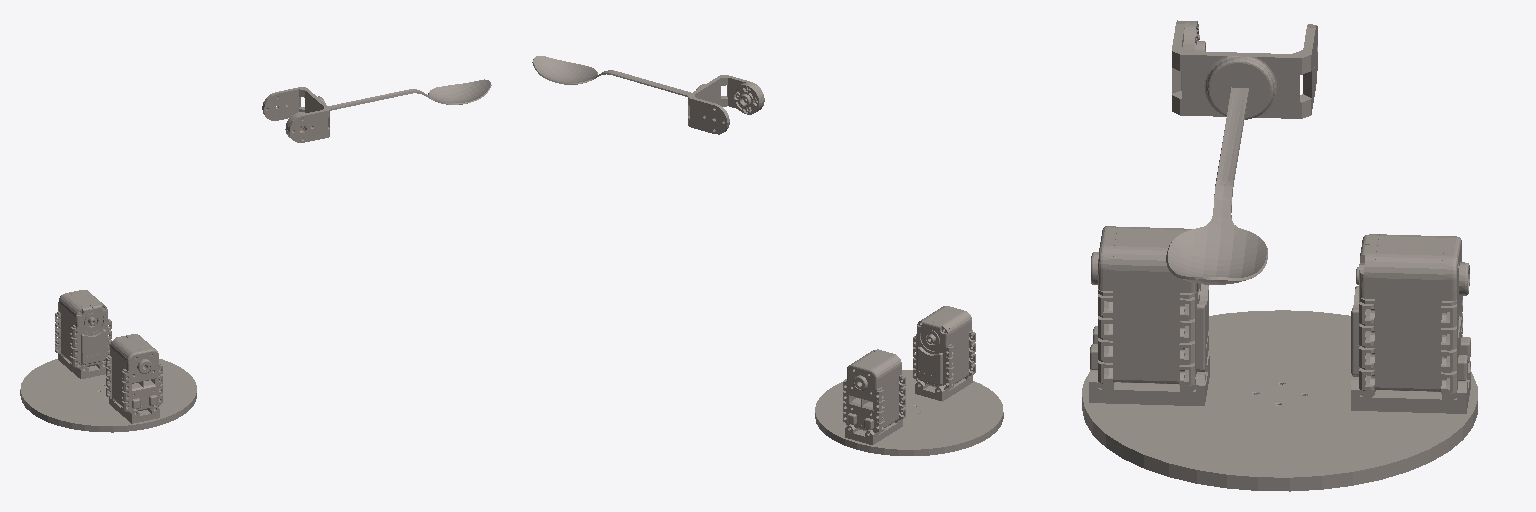
robot.urdf — MATLAB_feeding_robot_arm20:
<?xml version="1.0" encoding="utf-8"?>
<!-- This URDF was automatically created by SolidWorks to URDF Exporter! Originally created by [author] ([email redacted]) 
     Commit Version: 1.5.1-0-g916b5db  Build Version: 1.5.7152.31018
     For more information, please see http://wiki.ros.org/sw_urdf_exporter -->
<robot
  name="MATLAB_feeding_robot_arm20">
  <link
    name="base_link">
    <inertial>
      <origin
        xyz="0.194934821629088 -0.0135833956377986 0.00709237953021339"
        rpy="0 0 0" />
      <mass
        value="1.2996491336163" />
      <inertia
        ixx="0.00513241757298595"
        ixy="0.000909915765740639"
        ixz="-9.70075439247577E-06"
        iyy="0.0181269922660767"
        iyz="6.78255105158956E-07"
        izz="0.0231749776351054" />
    </inertial>
    <visual>
      <origin
        xyz="0 0 0"
        rpy="0 0 0" />
      <geometry>
        <mesh
          filename="package://MATLAB_feeding_robot_arm20/meshes/base_link.STL" />
      </geometry>
      <material
        name="">
        <color
          rgba="0.12156862745098 0.129411764705882 0.52156862745098 0.35" />
      </material>
    </visual>
    <collision>
      <origin
        xyz="0 0 0"
        rpy="0 0 0" />
      <geometry>
        <mesh
          filename="package://MATLAB_feeding_robot_arm20/meshes/base_link.STL" />
      </geometry>
    </collision>
  </link>
  <link
    name="first_link">
    <inertial>
      <origin
        xyz="-5.49706873415783E-08 2.4712752783821E-09 0.0262538101159052"
        rpy="0 0 0" />
      <mass
        value="0.159544218113454" />
      <inertia
        ixx="9.21738994783716E-05"
        ixy="4.43464740263406E-09"
        ixz="-7.30311926145205E-13"
        iyy="0.000113290154480954"
        iyz="-3.08656348752115E-12"
        izz="0.000174389664929604" />
    </inertial>
    <visual>
      <origin
        xyz="0 0 0"
        rpy="0 0 0" />
      <geometry>
        <mesh
          filename="package://MATLAB_feeding_robot_arm20/meshes/first_link.STL" />
      </geometry>
      <material
        name="">
        <color
          rgba="0.647058823529412 0.619607843137255 0.6 1" />
      </material>
    </visual>
    <collision>
      <origin
        xyz="0 0 0"
        rpy="0 0 0" />
      <geometry>
        <mesh
          filename="package://MATLAB_feeding_robot_arm20/meshes/first_link.STL" />
      </geometry>
    </collision>
  </link>
  <joint
    name="first_joint"
    type="revolute">
    <origin
      xyz="0.00099758 -6.9514E-05 0.043297"
      rpy="0 0 1.5012" />
    <parent
      link="base_link" />
    <child
      link="first_link" />
    <axis
      xyz="0 0 1" />
    <limit
      lower="-2.618"
      upper="2.618"
      effort="1"
      velocity="4.8" />
  </joint>
  <link
    name="second_link">
    <inertial>
      <origin
        xyz="-3.90671112193231E-07 0.0857335900702113 0.000293778750700397"
        rpy="0 0 0" />
      <mass
        value="0.08126049056897" />
      <inertia
        ixx="5.30107210326389E-05"
        ixy="-2.36532041707882E-10"
        ixz="2.21591417779484E-09"
        iyy="1.32852672838446E-05"
        iyz="1.77521297582527E-07"
        izz="5.00305762180477E-05" />
    </inertial>
    <visual>
      <origin
        xyz="0 0 0"
        rpy="0 0 0" />
      <geometry>
        <mesh
          filename="package://MATLAB_feeding_robot_arm20/meshes/second_link.STL" />
      </geometry>
      <material
        name="">
        <color
          rgba="0.647058823529412 0.619607843137255 0.6 1" />
      </material>
    </visual>
    <collision>
      <origin
        xyz="0 0 0"
        rpy="0 0 0" />
      <geometry>
        <mesh
          filename="package://MATLAB_feeding_robot_arm20/meshes/second_link.STL" />
      </geometry>
    </collision>
  </link>
  <joint
    name="second_joint"
    type="revolute">
    <origin
      xyz="0 0 0.055203"
      rpy="1.5708 0 -1.5708" />
    <parent
      link="first_link" />
    <child
      link="second_link" />
    <axis
      xyz="0 0 -1" />
    <limit
      lower="-2.618"
      upper="2.618"
      effort="1"
      velocity="4.8" />
  </joint>
  <link
    name="third_link">
    <inertial>
      <origin
        xyz="0.101673492894517 4.64579096498552E-07 0.000605967892427892"
        rpy="0 0 0" />
      <mass
        value="0.0702571061766664" />
      <inertia
        ixx="8.92340768563915E-06"
        ixy="1.88602114898204E-10"
        ixz="1.92580071515587E-07"
        iyy="5.8728277457127E-05"
        iyz="-2.22078239798901E-09"
        izz="5.97549761871198E-05" />
    </inertial>
    <visual>
      <origin
        xyz="0 0 0"
        rpy="0 0 0" />
      <geometry>
        <mesh
          filename="package://MATLAB_feeding_robot_arm20/meshes/third_link.STL" />
      </geometry>
      <material
        name="">
        <color
          rgba="0.647058823529412 0.619607843137255 0.6 1" />
      </material>
    </visual>
    <collision>
      <origin
        xyz="0 0 0"
        rpy="0 0 0" />
      <geometry>
        <mesh
          filename="package://MATLAB_feeding_robot_arm20/meshes/third_link.STL" />
      </geometry>
    </collision>
  </link>
  <joint
    name="third_joint"
    type="revolute">
    <origin
      xyz="0 0.1472 0"
      rpy="0 0 0" />
    <parent
      link="second_link" />
    <child
      link="third_link" />
    <axis
      xyz="0 0 1" />
    <limit
      lower="-2.168"
      upper="2.618"
      effort="1"
      velocity="4.8" />
  </joint>
  <link
    name="fourth_link">
    <inertial>
      <origin
        xyz="0.0324387698007119 -0.00144386213516617 0.00282945586620664"
        rpy="0 0 0" />
      <mass
        value="0.0108011745182262" />
      <inertia
        ixx="2.74708574332677E-06"
        ixy="1.59942953762279E-06"
        ixz="-5.70280999936005E-08"
        iyy="2.28051195237262E-05"
        iyz="2.7777092394106E-09"
        izz="2.10473200080076E-05" />
    </inertial>
    <visual>
      <origin
        xyz="0 0 0"
        rpy="0 0 0" />
      <geometry>
        <mesh
          filename="package://MATLAB_feeding_robot_arm20/meshes/fourth_link.STL" />
      </geometry>
      <material
        name="">
        <color
          rgba="0.647058823529412 0.619607843137255 0.6 1" />
      </material>
    </visual>
    <collision>
      <origin
        xyz="0 0 0"
        rpy="0 0 0" />
      <geometry>
        <mesh
          filename="package://MATLAB_feeding_robot_arm20/meshes/fourth_link.STL" />
      </geometry>
    </collision>
  </link>
  <joint
    name="fourth_joint"
    type="revolute">
    <origin
      xyz="0.1472 0 0"
      rpy="0 0 0" />
    <parent
      link="third_link" />
    <child
      link="fourth_link" />
    <axis
      xyz="0 0 1" />
    <limit
      lower="-2.618"
      upper="2.618"
      effort="1"
      velocity="4.8" />
  </joint>
</robot>

--- Facts derived from the render (not from the file) ---
3 views of the same robot in one strip: view 1: azimuth 30°, elevation 25°; view 2: azimuth 150°, elevation 25°; view 3: azimuth 270°, elevation 25° (orthographic).
Robot: MATLAB_feeding_robot_arm20 — 5 links, 4 joints (4 revolute); root link base_link; default pose: all joints at 0.
Visible links, largest first — view 1: first_link, fourth_link; view 2: first_link, fourth_link; view 3: first_link, fourth_link.
Boxes of the visible links, bbox=[...] form: first_link: bbox=[20, 290, 196, 432]; fourth_link: bbox=[262, 79, 491, 142]; first_link: bbox=[815, 306, 1003, 455]; fourth_link: bbox=[532, 56, 764, 134]; first_link: bbox=[1082, 226, 1477, 491]; fourth_link: bbox=[1166, 20, 1317, 284].
Bounding box of the posed robot: 0.3758 × 0.1298 × 0.2134 m (x, y, z).
2 mesh visuals loaded from 5 distinct referenced files (2 binary STL); not drawn: 3 (reference not matched to a file when rendering).